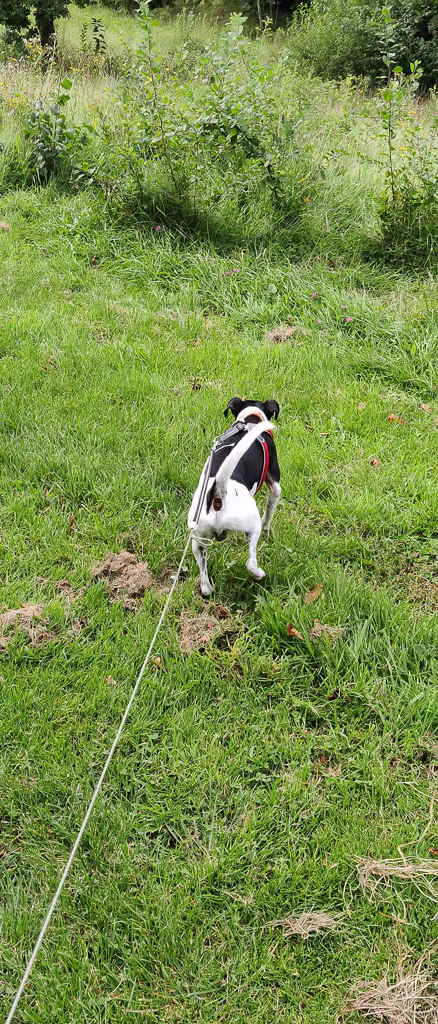Dog: (166, 377, 313, 619)
